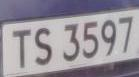3: (63, 20, 80, 67)
5: (83, 17, 101, 60)
7: (116, 11, 137, 53)
9: (100, 14, 118, 59)
S: (32, 21, 56, 71)
T: (10, 24, 35, 74)
